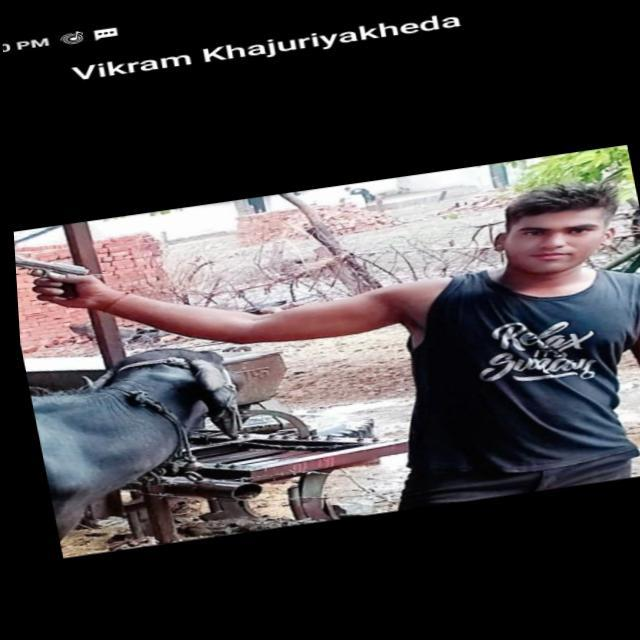weapon: (12, 241, 96, 310)
